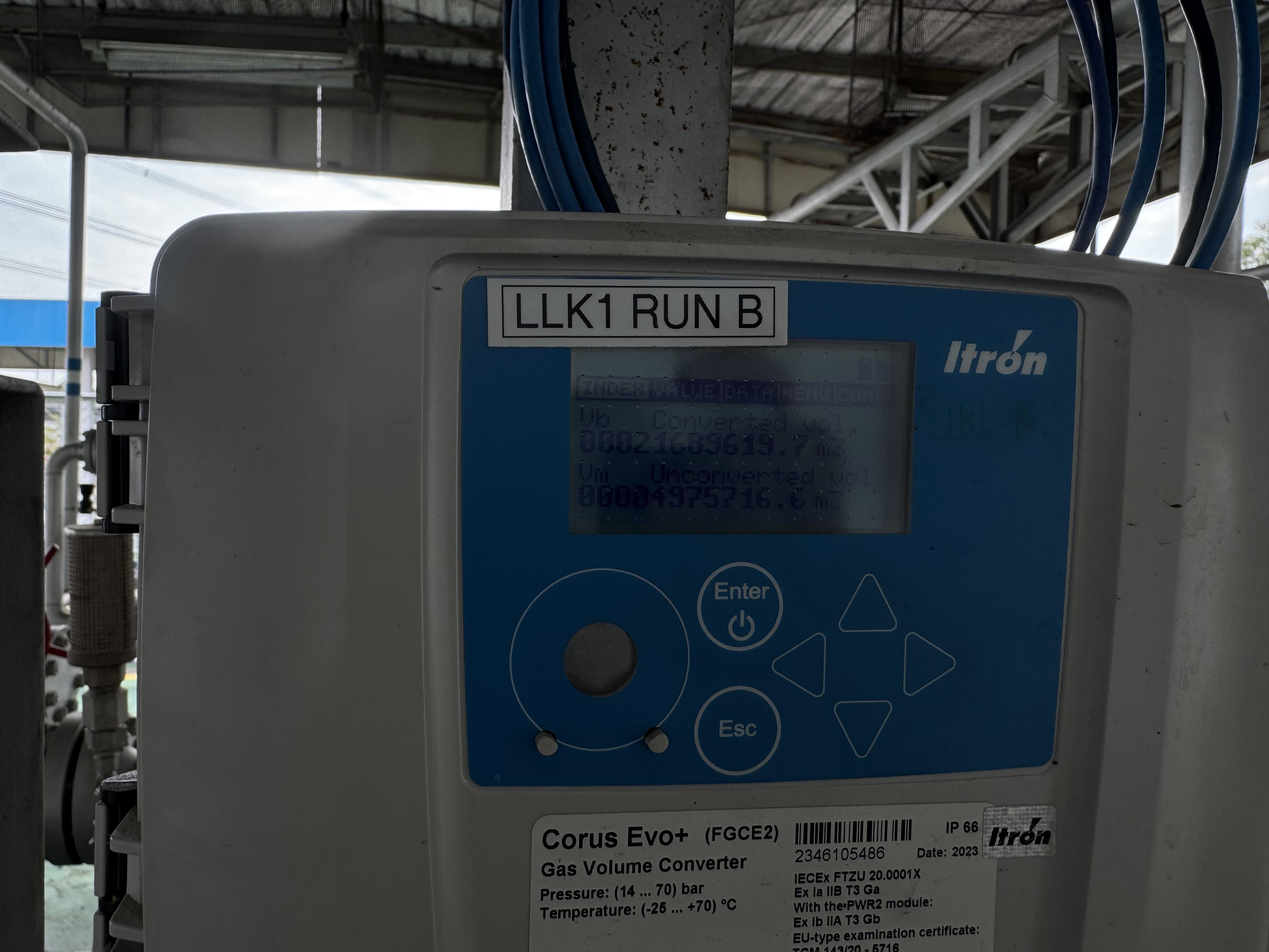digital_screen: (569, 333, 915, 537)
